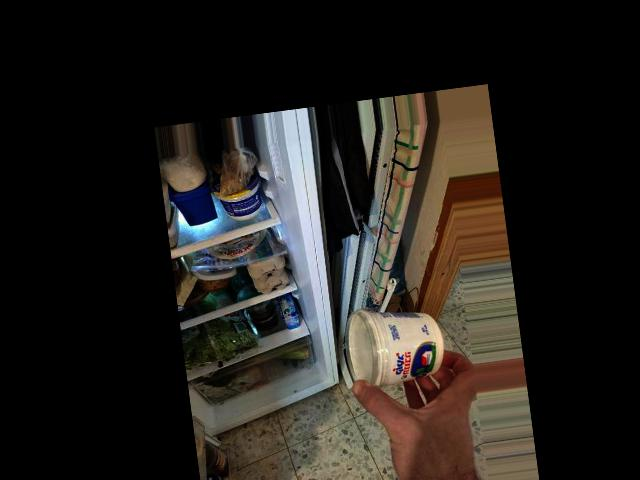cotage: (348, 308, 441, 395)
